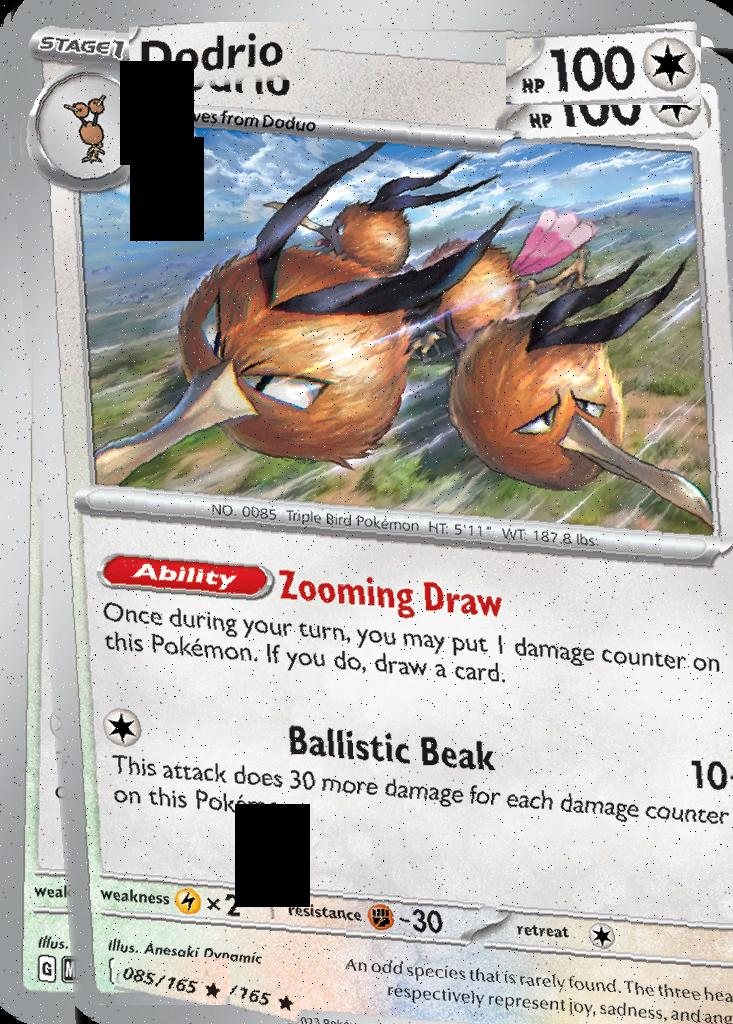card: (0, 0, 733, 1024)
hp: (507, 20, 702, 106)
name: (130, 23, 313, 93), (114, 956, 230, 1005)
